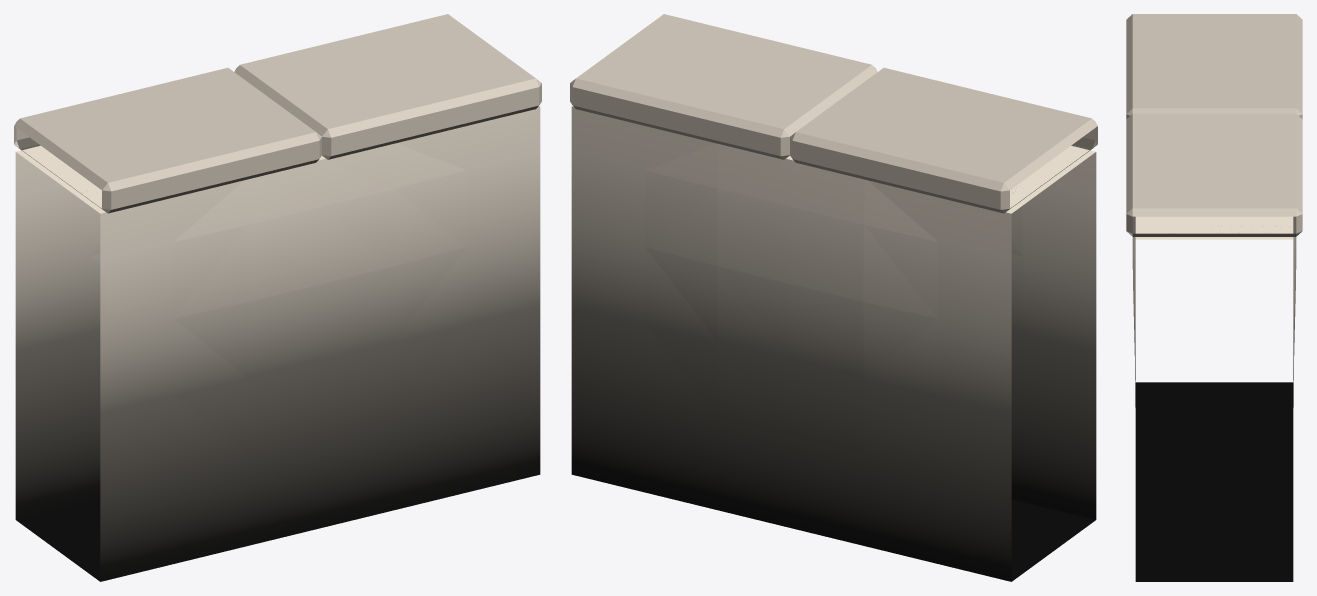
File: SM_VKI_Wall_Dungeon_Plain_150A_Cut.fbx
3 views of the same model, side by side, from view 1: azimuth 30°, elevation 25°; view 2: azimuth 150°, elevation 25°; view 3: azimuth 270°, elevation 25° (orthographic). The views are drawn at different scales.
Parts seen in each view (by area): view 1: SM_VKI_Wall_Dungeon_Plain_150A_Cut.001; view 2: SM_VKI_Wall_Dungeon_Plain_150A_Cut.001; view 3: SM_VKI_Wall_Dungeon_Plain_150A_Cut.001.
Boxes of the visible parts, x1,y1,x2,y2 form: SM_VKI_Wall_Dungeon_Plain_150A_Cut.001: (14, 14, 541, 581); SM_VKI_Wall_Dungeon_Plain_150A_Cut.001: (570, 14, 1097, 581); SM_VKI_Wall_Dungeon_Plain_150A_Cut.001: (1126, 14, 1302, 581).
Size of the model in its own units: 1.5 by 1.3 by 0.56.
